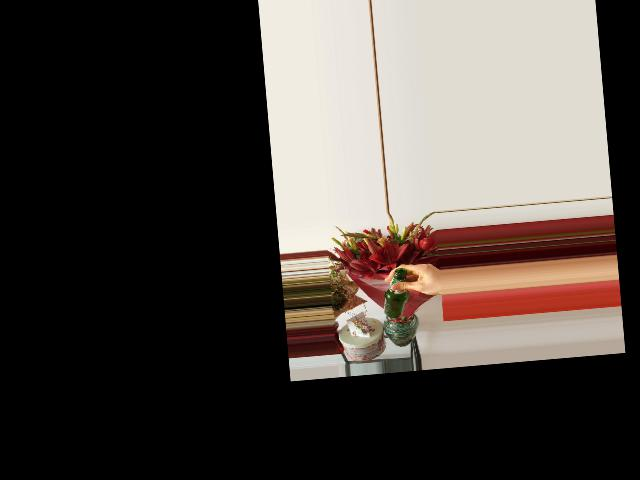beer: (380, 268, 411, 318)
